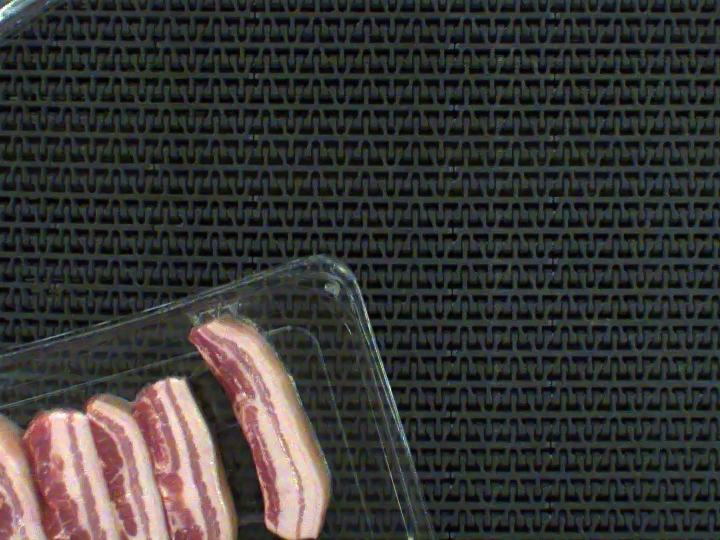loose-meat: (193, 303, 390, 540)
